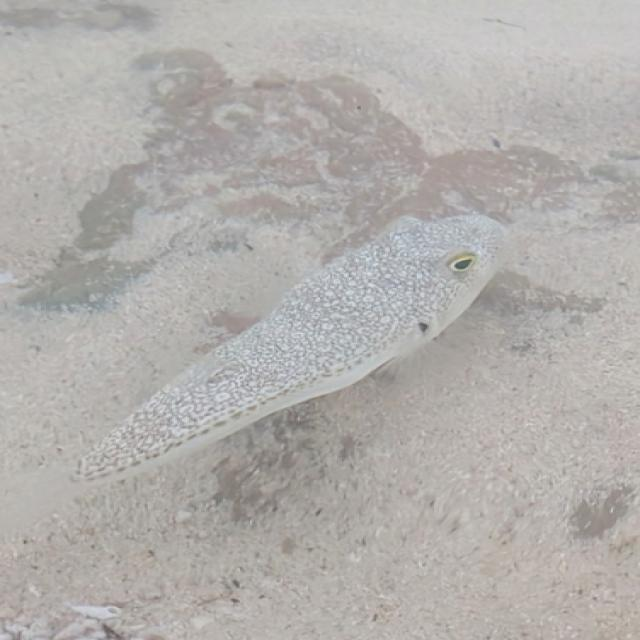Balik: (78, 215, 504, 479)
